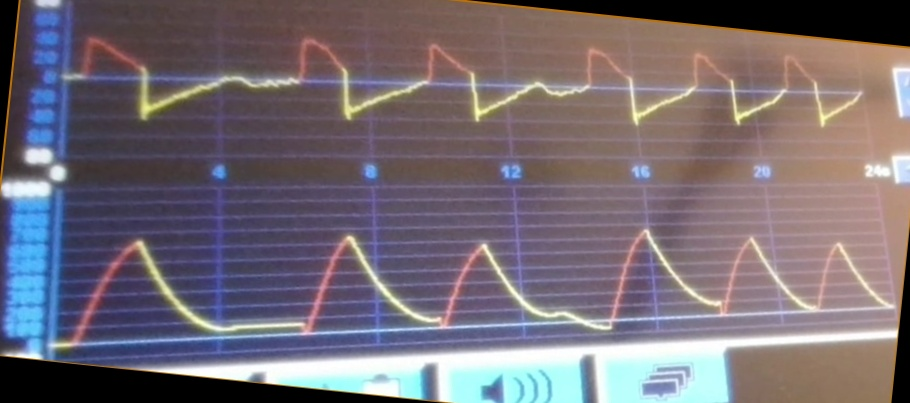Ineffective_effort Flow: (69, 32, 860, 146)
Ineffective_effort Volume: (58, 226, 888, 338)
